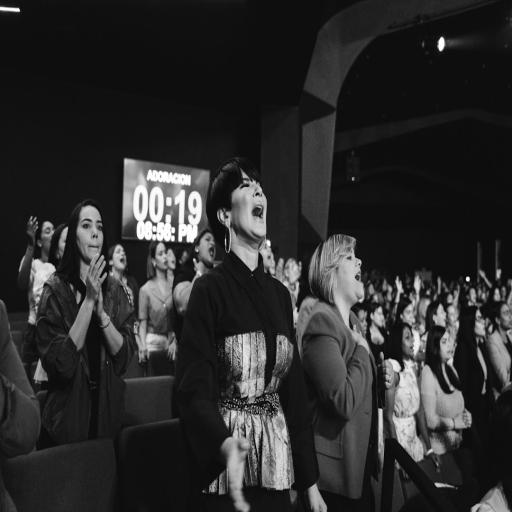face: (228, 172, 267, 248), (334, 250, 364, 307), (76, 205, 104, 264), (196, 232, 216, 268), (429, 301, 448, 330), (438, 331, 454, 363), (152, 242, 167, 272), (112, 244, 126, 274), (402, 326, 414, 360), (498, 303, 512, 330), (370, 306, 385, 328), (474, 310, 486, 337), (400, 304, 414, 326), (166, 248, 176, 270)
